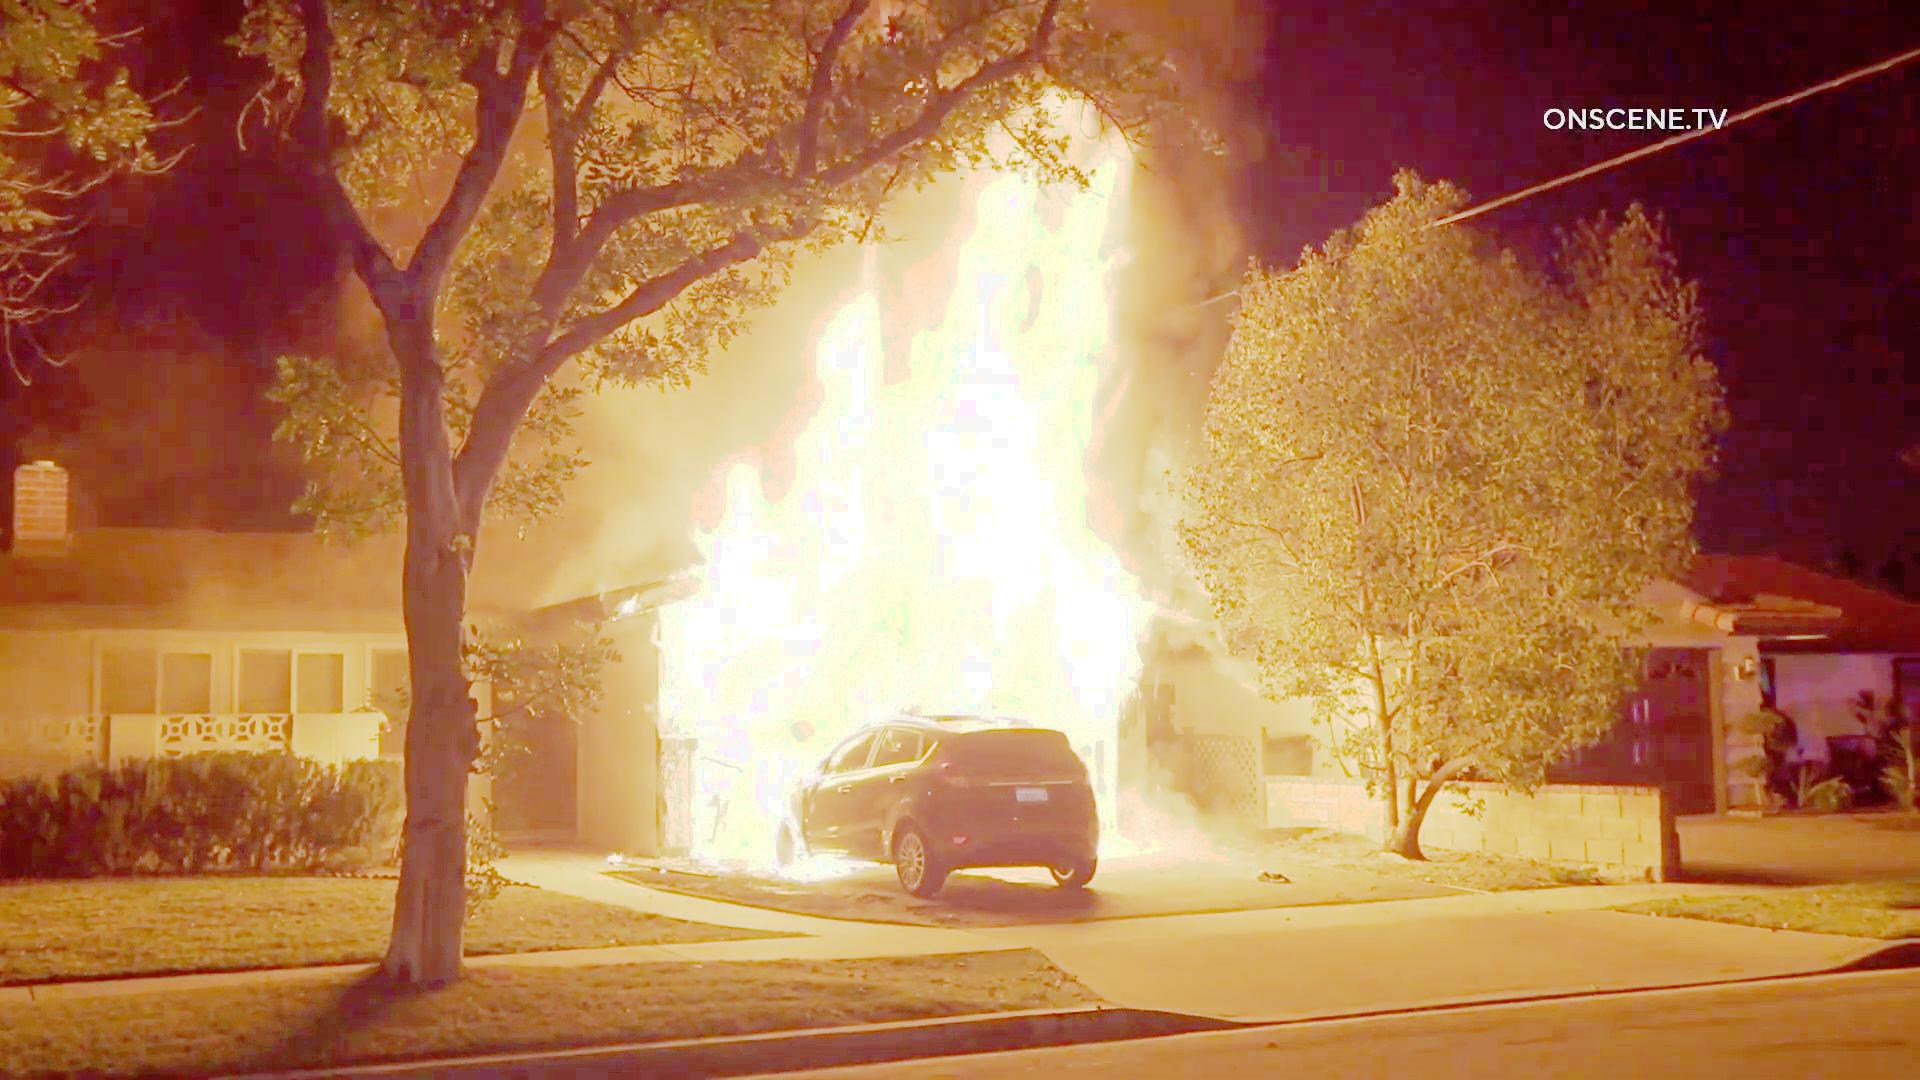fire: (828, 211, 1131, 719), (996, 103, 1127, 719), (658, 473, 791, 858)
smoke: (1153, 16, 1267, 258), (543, 373, 651, 580), (675, 295, 803, 436)
